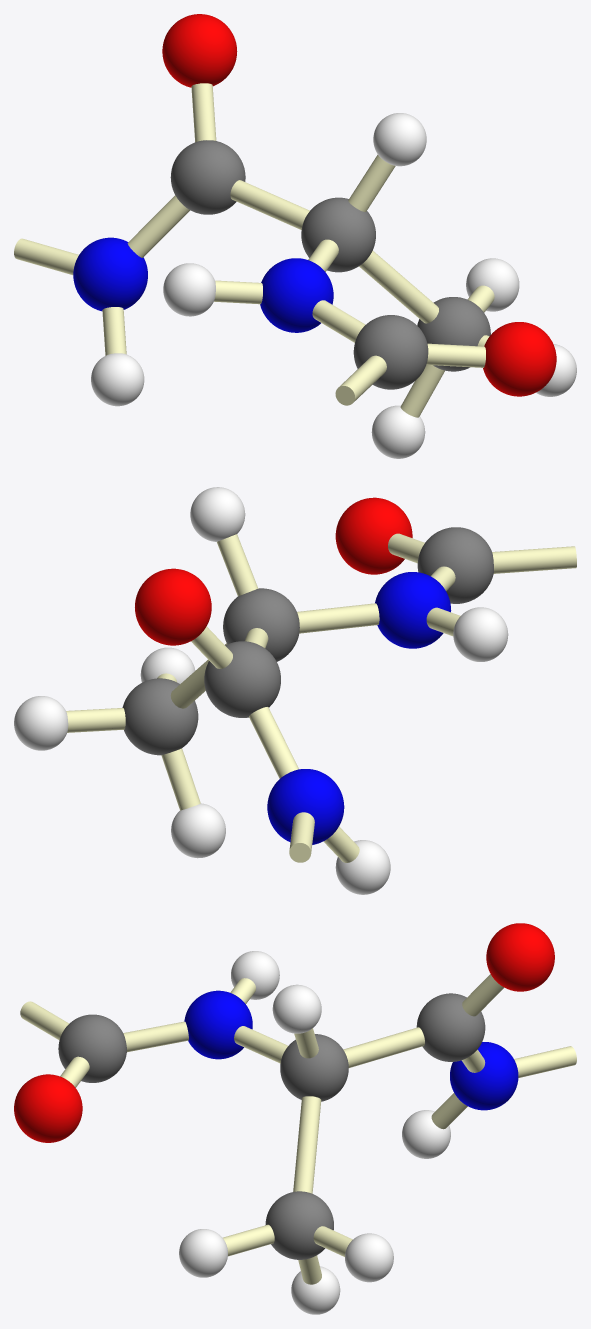
File: conformation.gltf
3 views of the same model, one above another, from view 1: azimuth 30°, elevation 25°; view 2: azimuth 150°, elevation 25°; view 3: azimuth 270°, elevation 25° (orthographic). The views are drawn at different scales.
Visible parts, largest first — view 1: ?????????2, ?????????6, ?????????13, ?????????5, ?????????3, ?????????1, ?????????4, ?????????9, ?????????8, ?????????14, ?????????7, ?????????12 (+15 smaller); view 2: ?????????6, ?????????5, ?????????2, ?????????9, ?????????3, ?????????13, ?????????1, ?????????4, ?????????7, ?????????11, ?????????8, ?????????12 (+14 smaller); view 3: ?????????2, ?????????6, ?????????5, ?????????3, ?????????1, ?????????9, ?????????4, ?????????13, ?????????22, ?????????8, ?????????11, ?????????10 (+15 smaller).
Boxes of the visible parts, x1,y1,x2,y2 form: ?????????2: (483, 322, 556, 396); ?????????6: (162, 14, 237, 87); ?????????13: (73, 237, 147, 311); ?????????5: (170, 140, 245, 214); ?????????3: (260, 258, 333, 332); ?????????1: (353, 315, 428, 389); ?????????4: (301, 197, 375, 272); ?????????9: (417, 297, 490, 371); ?????????8: (373, 113, 426, 166); ?????????14: (91, 353, 144, 406); ?????????7: (163, 263, 215, 316); ?????????12: (371, 405, 425, 458); ?????????6: (135, 568, 211, 645); ?????????5: (204, 641, 280, 717); ?????????2: (335, 497, 412, 574); ?????????9: (122, 678, 198, 755); ?????????3: (375, 572, 451, 648); ?????????13: (267, 769, 344, 844); ?????????1: (417, 527, 493, 603); ?????????4: (223, 588, 299, 661); ?????????7: (453, 607, 508, 661); ?????????11: (14, 696, 68, 750); ?????????8: (190, 487, 245, 541); ?????????12: (171, 803, 225, 858); ?????????2: (14, 1074, 82, 1142); ?????????6: (486, 923, 554, 991); ?????????5: (416, 993, 485, 1061); ?????????3: (184, 990, 252, 1059); ?????????1: (58, 1014, 126, 1082); ?????????9: (265, 1191, 333, 1259); ?????????4: (280, 1034, 348, 1101); ?????????13: (450, 1042, 518, 1110); ?????????22: (293, 1096, 321, 1193); ?????????8: (272, 984, 321, 1033); ?????????11: (345, 1233, 393, 1282); ?????????10: (179, 1229, 227, 1277).
Bounding box in the file's own units: 44.42 × 39.05 × 57.41.
